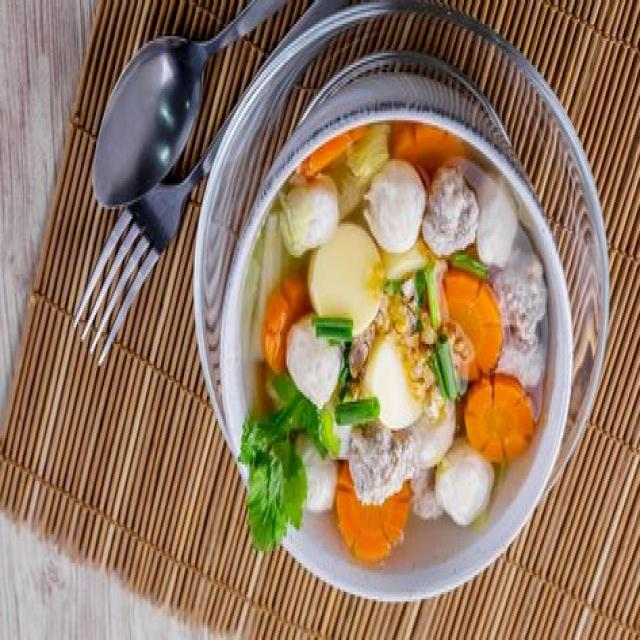sop: (222, 72, 574, 580)
